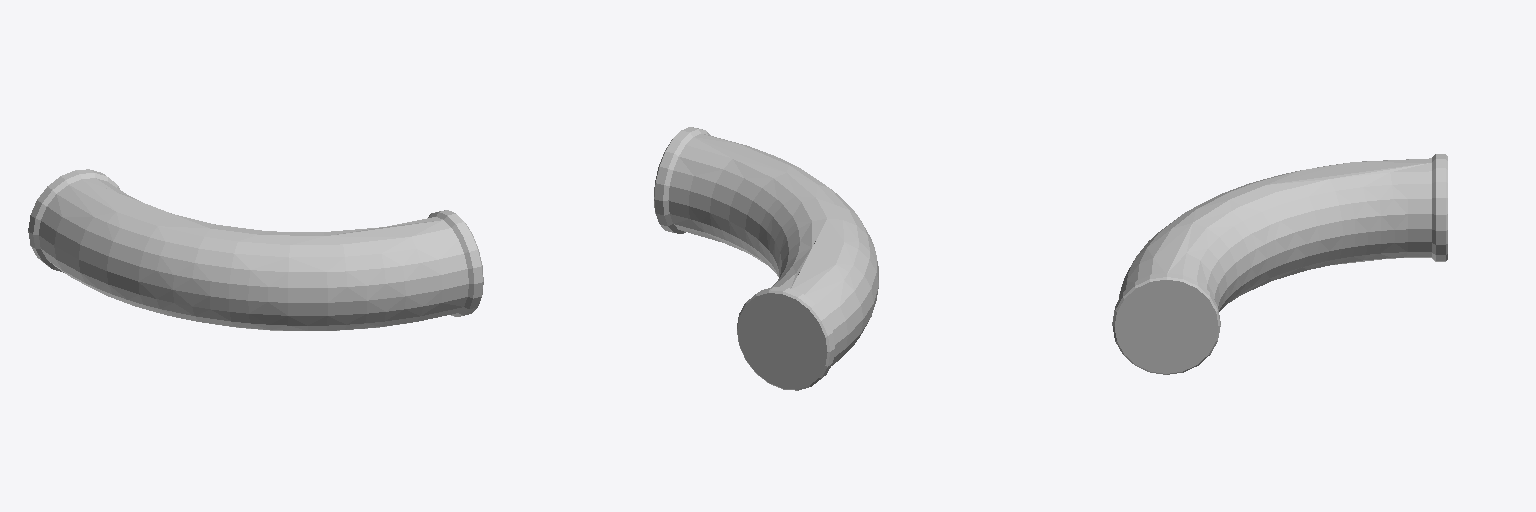
File: Pipe90c.obj
The picture shows the model from 3 angles: view 1: azimuth 30°, elevation 25°; view 2: azimuth 150°, elevation 25°; view 3: azimuth 270°, elevation 25°; orthographic projection.
Visible parts, largest first — view 1: Pipe90c; view 2: Pipe90c; view 3: Pipe90c.
Part boxes in pixels (left/top/right/bottom): Pipe90c: left=28, top=169, right=483, bottom=330; Pipe90c: left=654, top=127, right=878, bottom=390; Pipe90c: left=1112, top=154, right=1447, bottom=374.
Bounding box in the file's own units: 0.1673 × 0.054 × 0.1673.